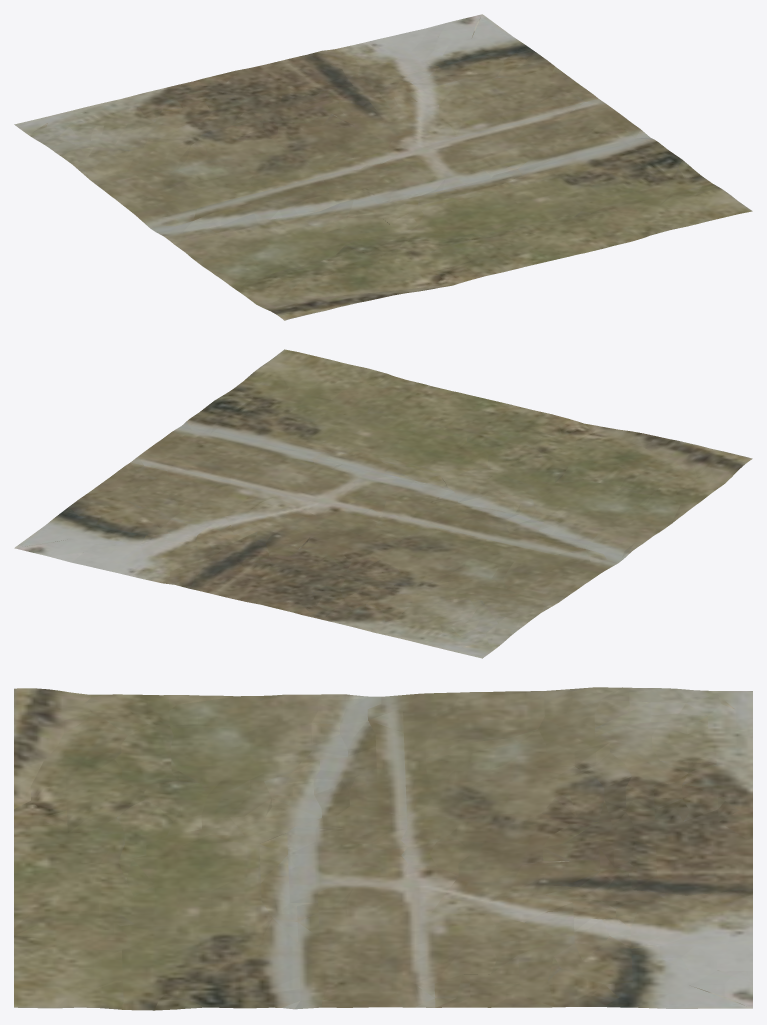
3 renders of one model, top to bottom at view 1: azimuth 30°, elevation 25°; view 2: azimuth 150°, elevation 25°; view 3: azimuth 270°, elevation 25°, orthographic. The views are drawn at different scales.
Bounding box in the file's own units: 104 × 1.82 × 104.
2 materials, 2 textured.
